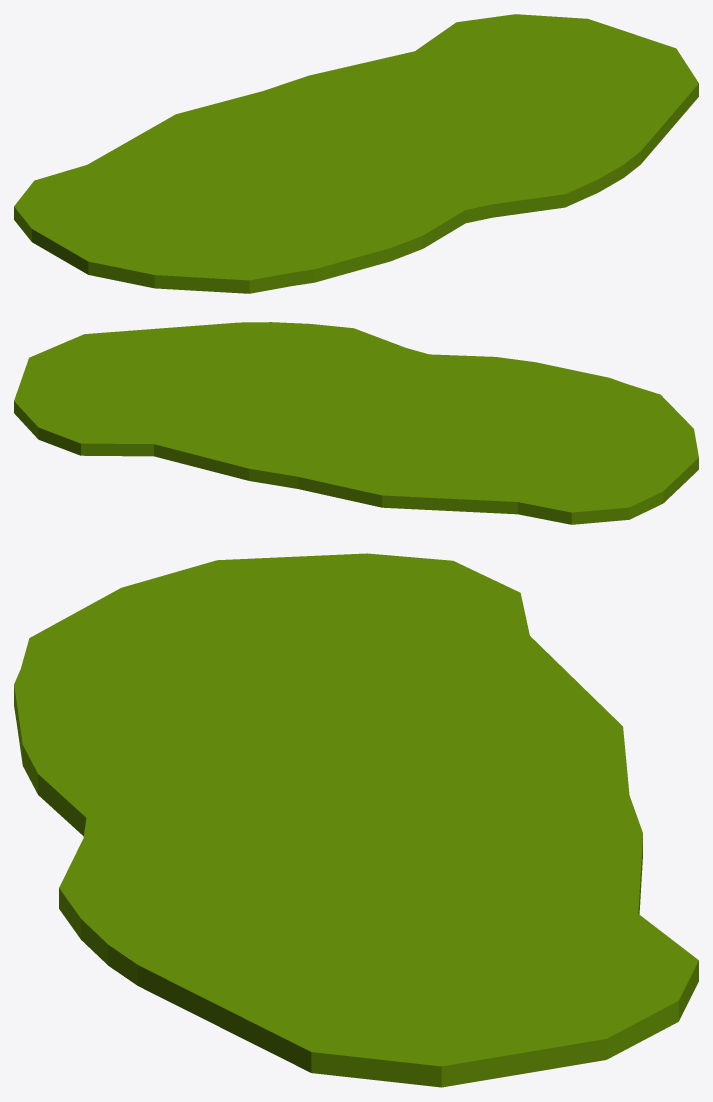
Rendered from Sand 17.FBX.
The picture shows the model from 3 angles, top to bottom: view 1: azimuth 30°, elevation 25°; view 2: azimuth 150°, elevation 25°; view 3: azimuth 270°, elevation 25°; orthographic projection. The views are drawn at different scales.
Visible parts, largest first — view 1: Plane001; view 2: Plane001; view 3: Plane001.
Part boxes in pixels (box(x1,y1,x2,y2)): Plane001: box(14, 14, 698, 293); Plane001: box(14, 322, 698, 524); Plane001: box(14, 553, 698, 1087).
Bounding box in the file's own units: 114 × 2.18 × 64.4.
